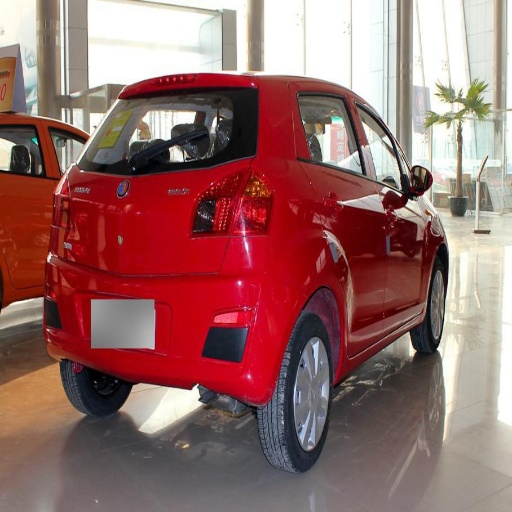back_bumper: (46, 277, 295, 401)
back_glass: (99, 95, 221, 171)
back_right_door: (303, 89, 382, 337)
trunk: (63, 167, 258, 319)
